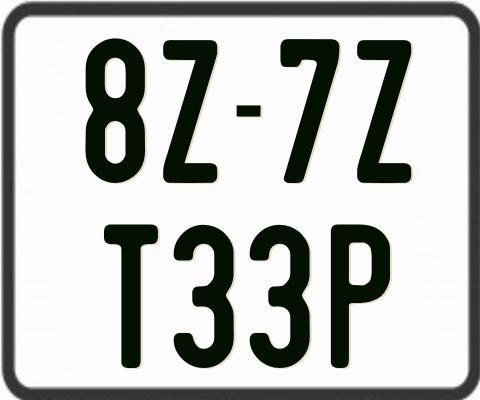3: (174, 222, 236, 371), (250, 225, 314, 368)
7: (277, 38, 336, 188)
8: (82, 37, 145, 188)
P: (329, 223, 389, 369)
T: (104, 223, 163, 373)
Z: (160, 37, 218, 180), (354, 38, 410, 182)
